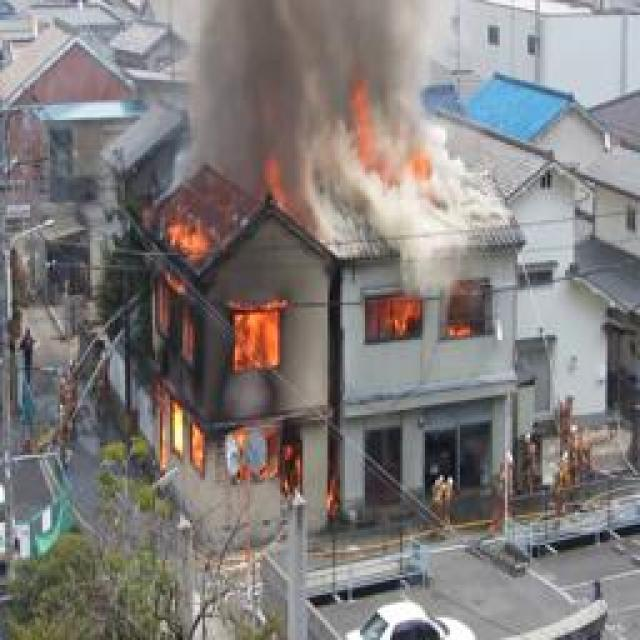Fire: (156, 164, 302, 506), (368, 288, 487, 342), (352, 86, 388, 182)
